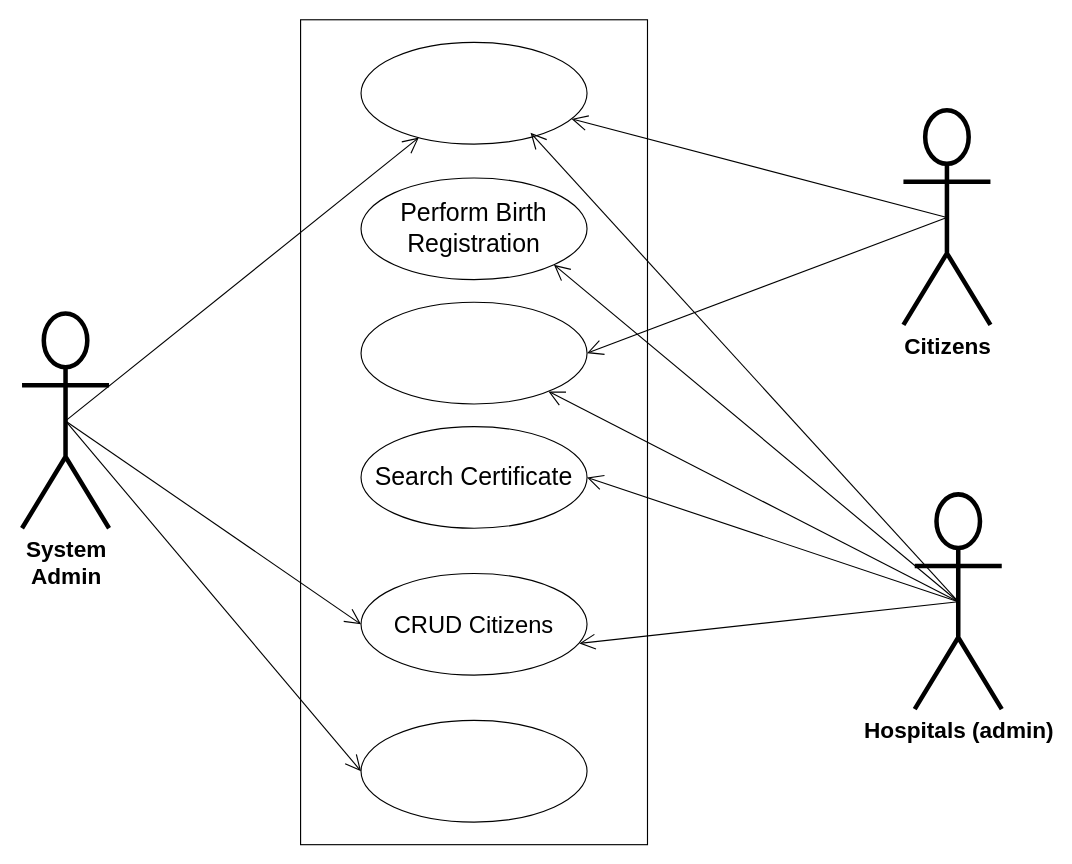
This 1072x864 diagram has some shape labels left out. The shapes that lost their labels are listed below. From the top down, each one's box as (x1, y1, x2, y2) in pixels, then its label:
(360, 41, 587, 144): Login / Logout
(360, 301, 587, 404): Print Certificate
(360, 719, 587, 822): CRUD Hospitals
